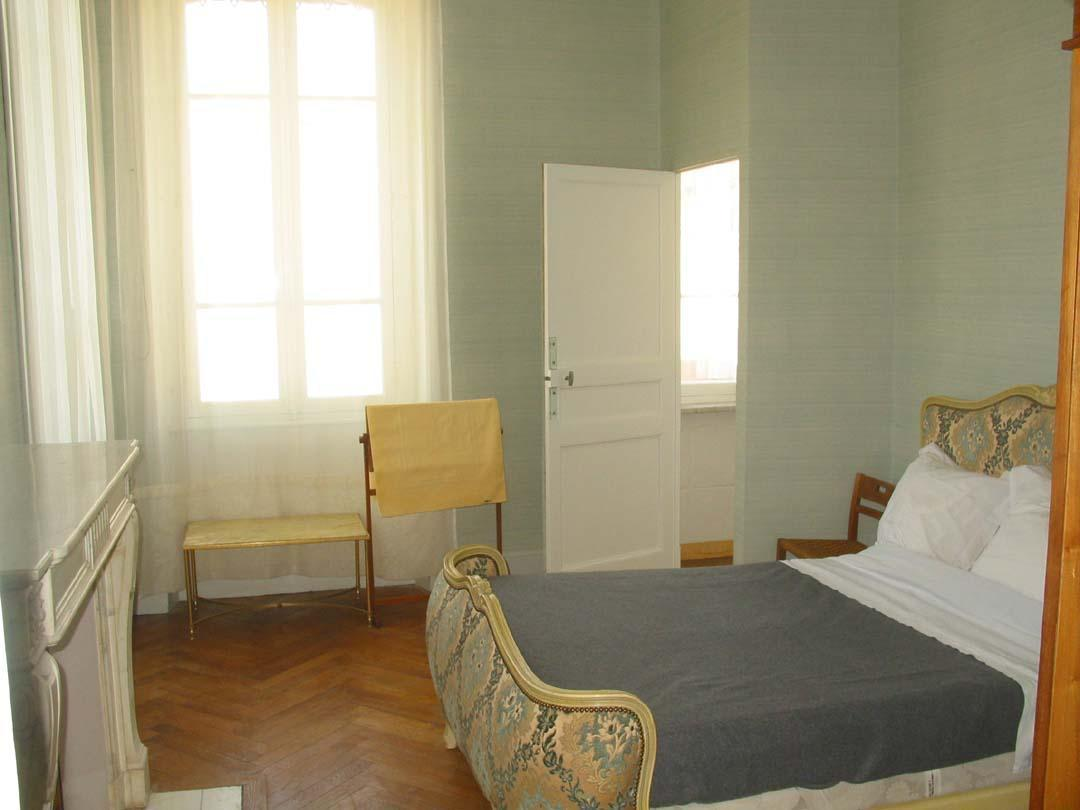Cama: (434, 378, 1053, 795)
Otro Obstaculo: (362, 399, 508, 600)
Puerta: (544, 160, 682, 569)
Ventana: (152, 16, 438, 421)
